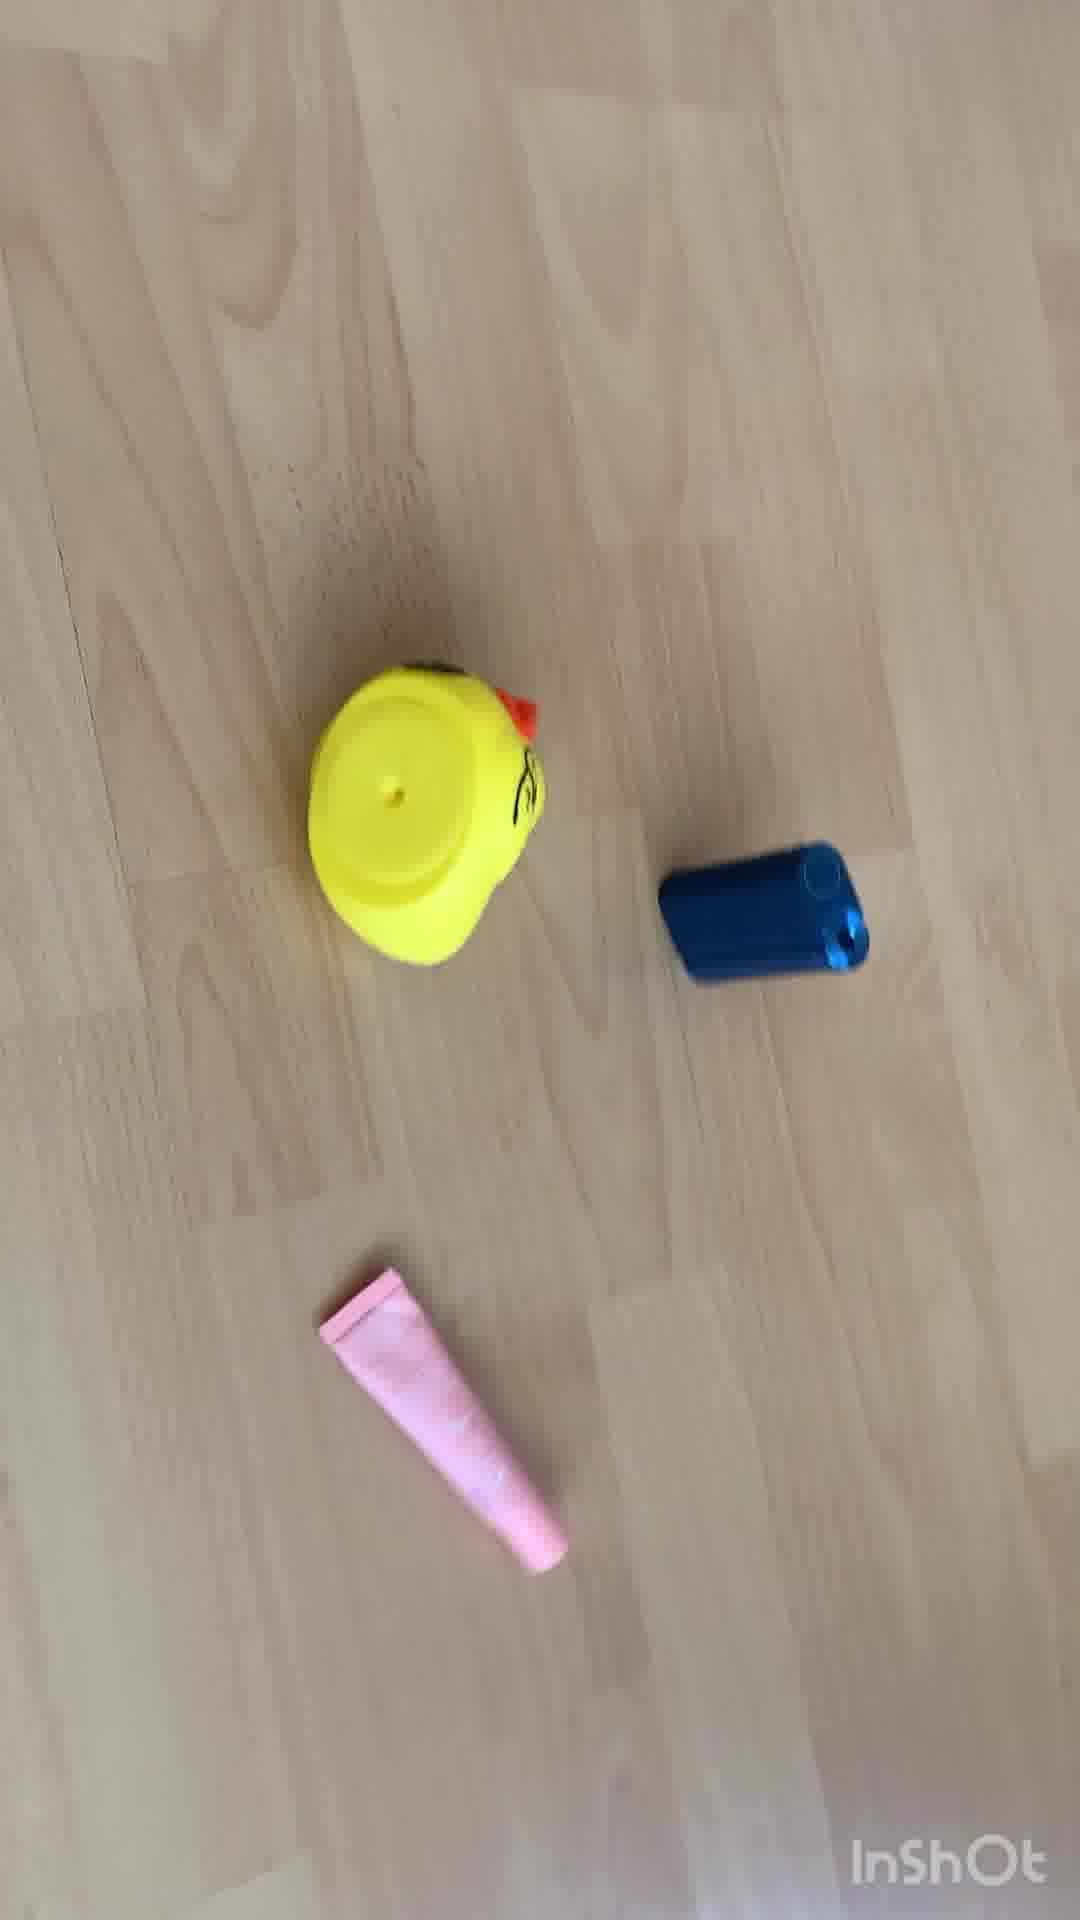duck: (313, 654, 549, 972)
glo: (654, 849, 869, 996)
lip balm: (313, 1276, 578, 1575)
